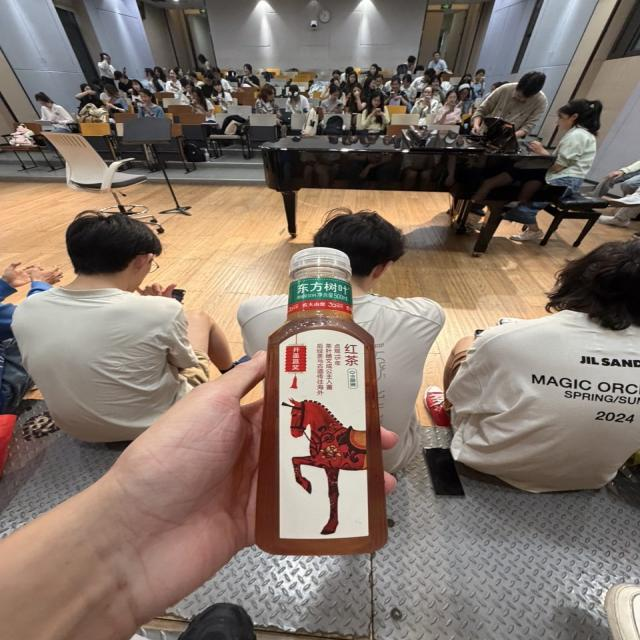high: (255, 248, 385, 554)
